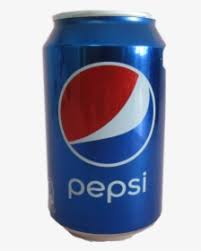pepsi_can: (42, 10, 167, 241)
